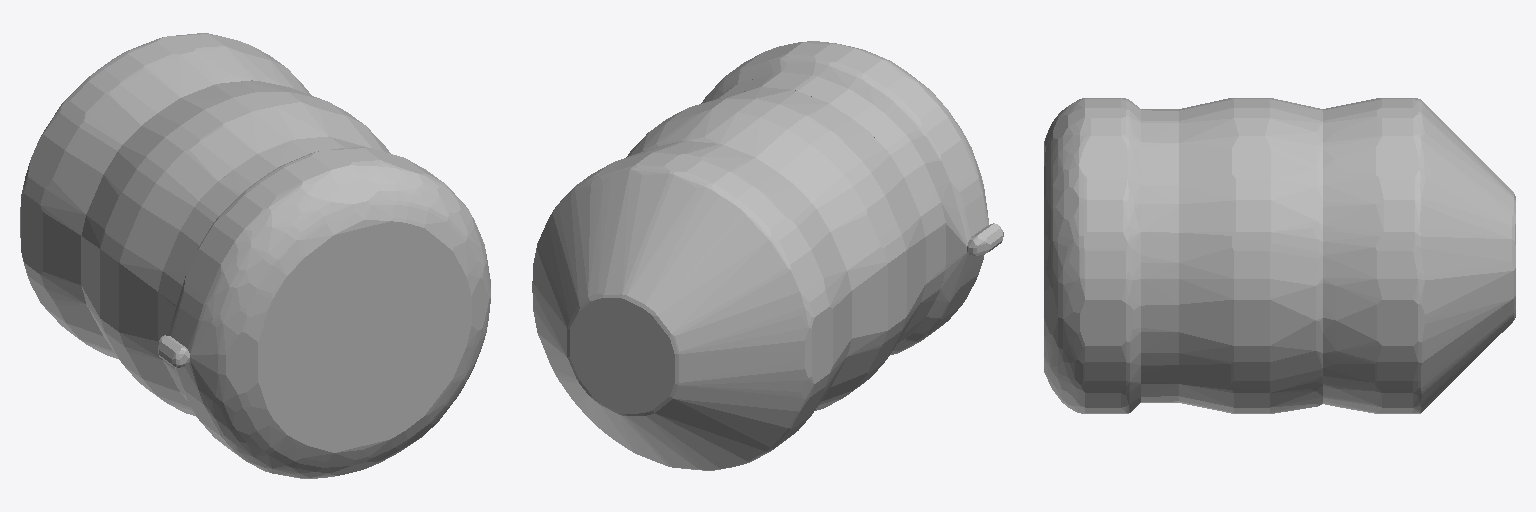
robot.urdf — root:
<robot name="root">
  <link name="link_coacd_convex_piece_0">
    <inertial>
      <origin xyz="0 0 0" rpy="0 0 0"/>
      <inertia ixx="1.41E-01" ixy="-1.15E-02" ixz="-8.09E-06" iyy="6.93E-02" iyz="-5.29E-06" izz="1.41E-01"/>
    </inertial>
    <visual>
      <origin xyz="0 0 0" rpy="0 0 0"/>
      <geometry>
        <mesh filename="coacd_convex_piece_0.obj" scale="1.0000E+00 1.0000E+00 1.0000E+00"/>
      </geometry>
      <material name="">
        <color rgba="7.50E-01 7.50E-01 7.50E-01 1"/>
      </material>
    </visual>
    <collision>
      <origin xyz="0 0 0" rpy="0 0 0"/>
      <geometry>
        <mesh filename="coacd_convex_piece_0.obj" scale="1.0000E+00 1.0000E+00 1.0000E+00"/>
      </geometry>
    </collision>
  </link>
  <link name="link_coacd_convex_piece_1">
    <inertial>
      <origin xyz="0 0 0" rpy="0 0 0"/>
      <inertia ixx="4.96E-02" ixy="4.79E-04" ixz="-4.25E-06" iyy="7.41E-02" iyz="-3.27E-06" izz="4.92E-02"/>
    </inertial>
    <visual>
      <origin xyz="0 0 0" rpy="0 0 0"/>
      <geometry>
        <mesh filename="coacd_convex_piece_1.obj" scale="1.0000E+00 1.0000E+00 1.0000E+00"/>
      </geometry>
      <material name="">
        <color rgba="7.50E-01 7.50E-01 7.50E-01 1"/>
      </material>
    </visual>
    <collision>
      <origin xyz="0 0 0" rpy="0 0 0"/>
      <geometry>
        <mesh filename="coacd_convex_piece_1.obj" scale="1.0000E+00 1.0000E+00 1.0000E+00"/>
      </geometry>
    </collision>
  </link>
  <joint name="link_coacd_convex_piece_1_joint" type="fixed">
    <origin xyz="0 0 0" rpy="0 0 0"/>
    <parent link="link_coacd_convex_piece_0"/>
    <child link="link_coacd_convex_piece_1"/>
  </joint>
  <link name="link_coacd_convex_piece_2">
    <inertial>
      <origin xyz="0 0 0" rpy="0 0 0"/>
      <inertia ixx="2.97E-02" ixy="1.83E-03" ixz="-5.51E-06" iyy="1.66E-02" iyz="2.62E-06" izz="2.96E-02"/>
    </inertial>
    <visual>
      <origin xyz="0 0 0" rpy="0 0 0"/>
      <geometry>
        <mesh filename="coacd_convex_piece_2.obj" scale="1.0000E+00 1.0000E+00 1.0000E+00"/>
      </geometry>
      <material name="">
        <color rgba="7.50E-01 7.50E-01 7.50E-01 1"/>
      </material>
    </visual>
    <collision>
      <origin xyz="0 0 0" rpy="0 0 0"/>
      <geometry>
        <mesh filename="coacd_convex_piece_2.obj" scale="1.0000E+00 1.0000E+00 1.0000E+00"/>
      </geometry>
    </collision>
  </link>
  <joint name="link_coacd_convex_piece_2_joint" type="fixed">
    <origin xyz="0 0 0" rpy="0 0 0"/>
    <parent link="link_coacd_convex_piece_1"/>
    <child link="link_coacd_convex_piece_2"/>
  </joint>
  <link name="link_coacd_convex_piece_3">
    <inertial>
      <origin xyz="0 0 0" rpy="0 0 0"/>
      <inertia ixx="1.64E-01" ixy="7.75E-03" ixz="-2.06E-05" iyy="4.79E-02" iyz="-3.42E-05" izz="1.64E-01"/>
    </inertial>
    <visual>
      <origin xyz="0 0 0" rpy="0 0 0"/>
      <geometry>
        <mesh filename="coacd_convex_piece_3.obj" scale="1.0000E+00 1.0000E+00 1.0000E+00"/>
      </geometry>
      <material name="">
        <color rgba="7.50E-01 7.50E-01 7.50E-01 1"/>
      </material>
    </visual>
    <collision>
      <origin xyz="0 0 0" rpy="0 0 0"/>
      <geometry>
        <mesh filename="coacd_convex_piece_3.obj" scale="1.0000E+00 1.0000E+00 1.0000E+00"/>
      </geometry>
    </collision>
  </link>
  <joint name="link_coacd_convex_piece_3_joint" type="fixed">
    <origin xyz="0 0 0" rpy="0 0 0"/>
    <parent link="link_coacd_convex_piece_2"/>
    <child link="link_coacd_convex_piece_3"/>
  </joint>
  <link name="link_coacd_convex_piece_4">
    <inertial>
      <origin xyz="0 0 0" rpy="0 0 0"/>
      <inertia ixx="2.04E-04" ixy="-1.92E-04" ixz="-1.05E-06" iyy="1.75E-04" iyz="-1.11E-06" izz="3.79E-04"/>
    </inertial>
    <visual>
      <origin xyz="0 0 0" rpy="0 0 0"/>
      <geometry>
        <mesh filename="coacd_convex_piece_4.obj" scale="1.0000E+00 1.0000E+00 1.0000E+00"/>
      </geometry>
      <material name="">
        <color rgba="7.50E-01 7.50E-01 7.50E-01 1"/>
      </material>
    </visual>
    <collision>
      <origin xyz="0 0 0" rpy="0 0 0"/>
      <geometry>
        <mesh filename="coacd_convex_piece_4.obj" scale="1.0000E+00 1.0000E+00 1.0000E+00"/>
      </geometry>
    </collision>
  </link>
  <joint name="link_coacd_convex_piece_4_joint" type="fixed">
    <origin xyz="0 0 0" rpy="0 0 0"/>
    <parent link="link_coacd_convex_piece_3"/>
    <child link="link_coacd_convex_piece_4"/>
  </joint>
</robot>

--- Facts derived from the render (not from the file) ---
Views: 3 orthographic renders of the robot side by side, from view 1: azimuth 30°, elevation 25°; view 2: azimuth 150°, elevation 25°; view 3: azimuth 270°, elevation 25°.
Robot: root — 5 links, 4 joints (4 fixed); root link link_coacd_convex_piece_0; default pose: all joints at 0.
Links seen in each view (by area): view 1: link_coacd_convex_piece_3, link_coacd_convex_piece_1, link_coacd_convex_piece_0, link_coacd_convex_piece_2, link_coacd_convex_piece_4; view 2: link_coacd_convex_piece_0, link_coacd_convex_piece_1, link_coacd_convex_piece_3, link_coacd_convex_piece_2, link_coacd_convex_piece_4; view 3: link_coacd_convex_piece_0, link_coacd_convex_piece_1, link_coacd_convex_piece_3, link_coacd_convex_piece_2.
Boxes of the visible links, box(x1,y1,x2,y2) form: link_coacd_convex_piece_3: box(168, 147, 490, 478); link_coacd_convex_piece_1: box(81, 81, 390, 415); link_coacd_convex_piece_0: box(20, 33, 310, 358); link_coacd_convex_piece_2: box(158, 136, 371, 400); link_coacd_convex_piece_4: box(158, 335, 189, 367); link_coacd_convex_piece_0: box(532, 141, 851, 470); link_coacd_convex_piece_1: box(626, 87, 925, 410); link_coacd_convex_piece_3: box(701, 41, 988, 354); link_coacd_convex_piece_2: box(715, 72, 945, 344); link_coacd_convex_piece_4: box(967, 223, 1003, 255); link_coacd_convex_piece_0: box(1323, 98, 1515, 413); link_coacd_convex_piece_1: box(1179, 98, 1322, 413); link_coacd_convex_piece_3: box(1044, 98, 1140, 413); link_coacd_convex_piece_2: box(1141, 109, 1178, 402).
Size in the robot's own frame: 1.23 by 1.72 by 1.16 metres.
Meshes: 5 distinct files referenced, 5 mesh visuals loaded (5 OBJ).